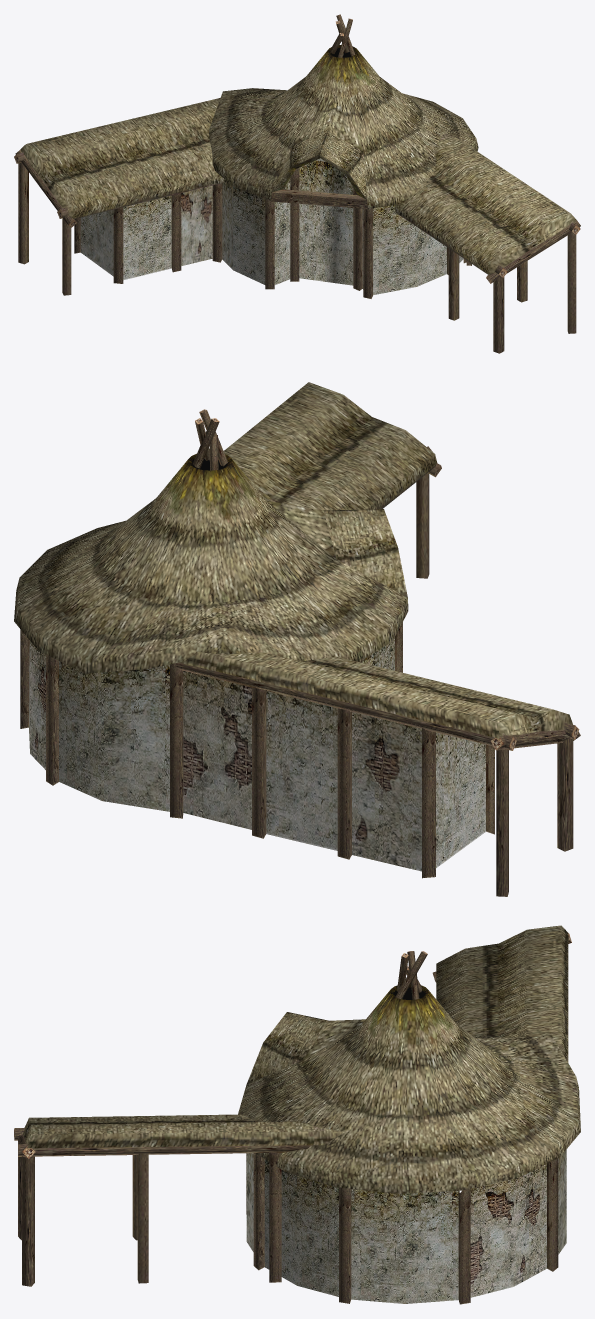
The model's file is celt_market2.dae.
3 views of the same model, one above another, from view 1: azimuth 30°, elevation 25°; view 2: azimuth 150°, elevation 25°; view 3: azimuth 270°, elevation 25° (orthographic). The views are drawn at different scales.
Parts seen in each view (by area): view 1: Object18; view 2: Object18; view 3: Object18.
Boxes of the visible parts, bbox=[...] form: Object18: bbox=[14, 14, 580, 353]; Object18: bbox=[14, 382, 580, 896]; Object18: bbox=[14, 925, 580, 1304].
Size of the model in its own units: 20.64 by 11.54 by 20.67.
